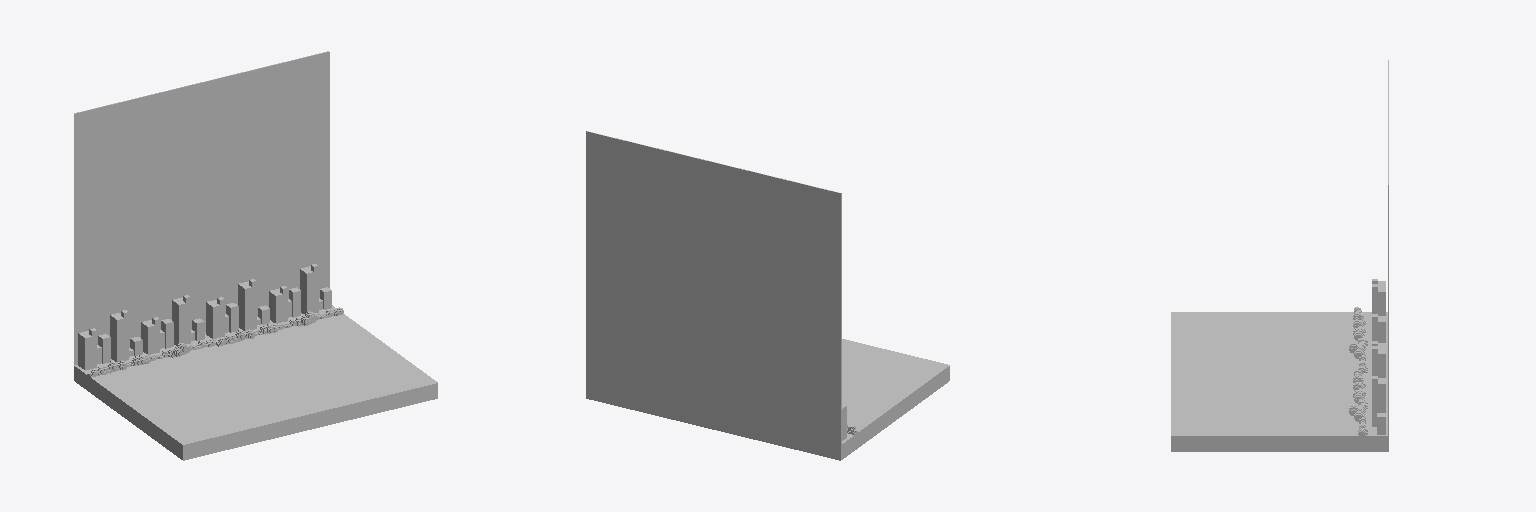
Rendered from BackGroundDay.obj.
The picture shows the model from 3 angles: view 1: azimuth 30°, elevation 25°; view 2: azimuth 150°, elevation 25°; view 3: azimuth 270°, elevation 25°; orthographic projection.
Visible parts, largest first — view 1: object 1; view 2: object 1; view 3: object 1.
Boxes of the visible parts, <box> form: object 1: <box>74,51,437,460</box>; object 1: <box>586,131,949,460</box>; object 1: <box>1171,60,1388,451</box>.
Bounding box in the file's own units: 25.6 × 25.6 × 19.